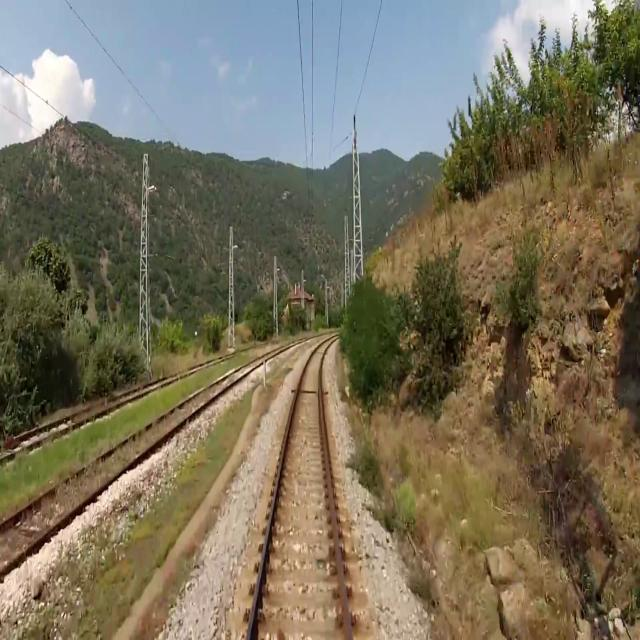rail-track: (0, 361, 257, 566), (251, 341, 347, 639), (16, 407, 98, 445), (0, 447, 12, 454)
